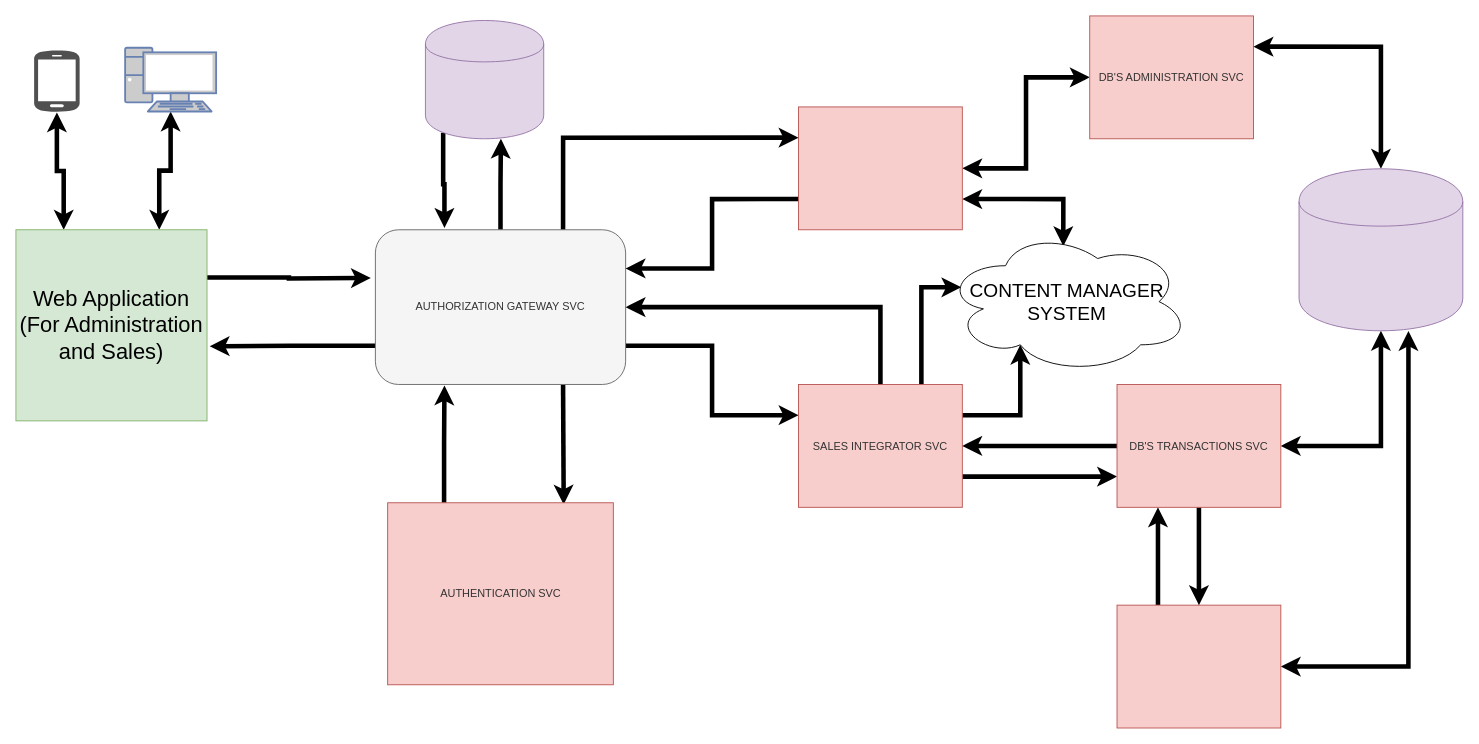
Image size: 1479x744. Some labels were removed from this diagram. The box of each missing label's shape, as (x1, y1, x2, y2) in pixels:
ADMINISTRATOR INTEGRATOR SVC: (798, 106, 962, 230)
BD (Contains Enroute rules): (425, 20, 544, 139)
PAYMENT SERVICE SVC: (1116, 604, 1281, 728)
TRANSACTIONAL BD: (1298, 168, 1463, 331)
